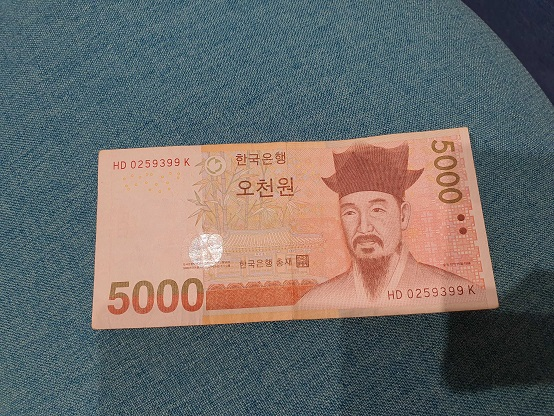5000won: (93, 124, 499, 329)
